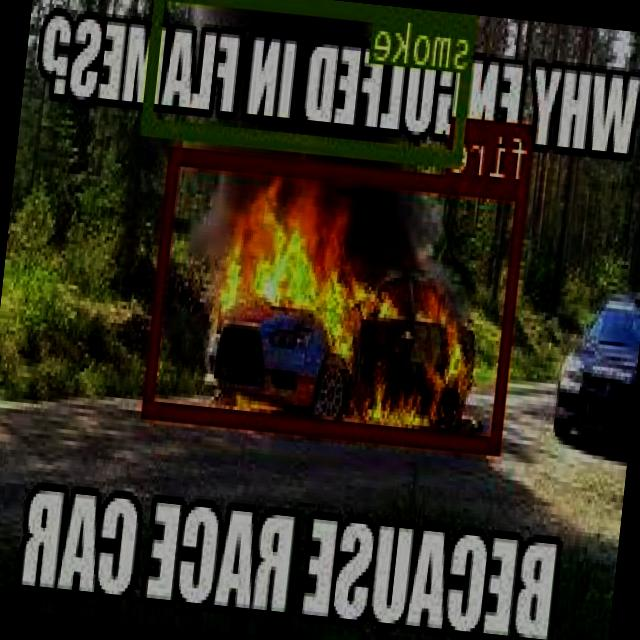fire: (145, 144, 530, 450)
smoke: (143, 0, 478, 162)
